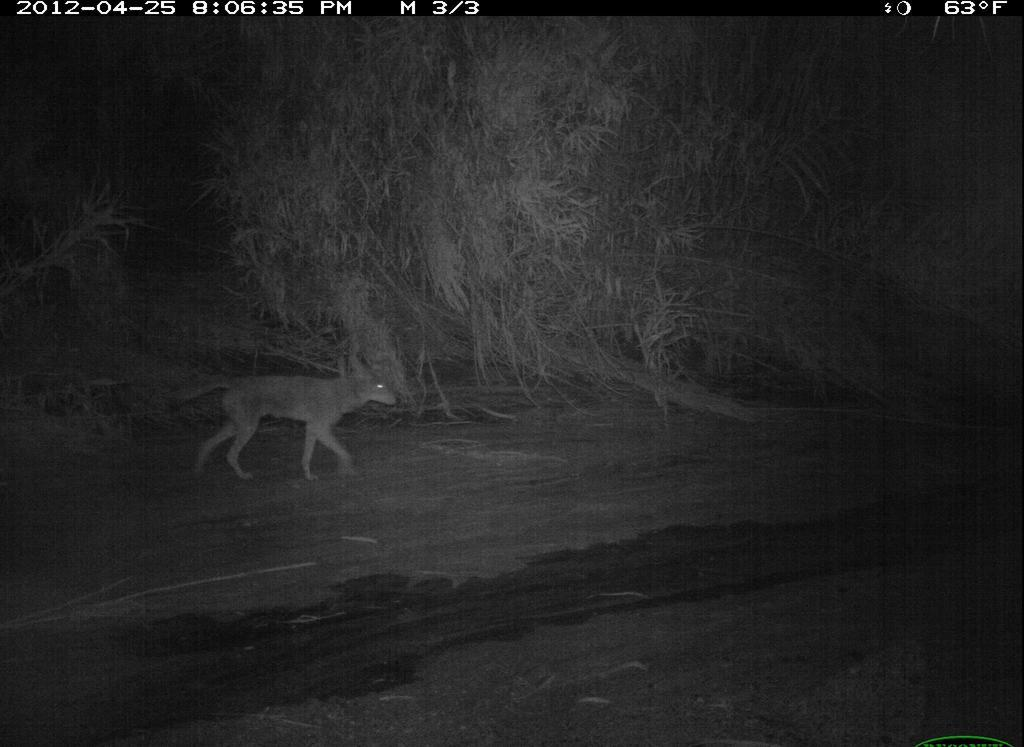coyote: (159, 327, 406, 504)
